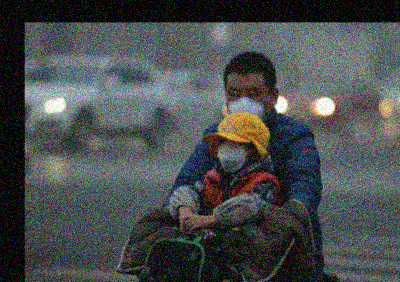with_mask: (226, 83, 270, 125), (214, 137, 248, 172)
